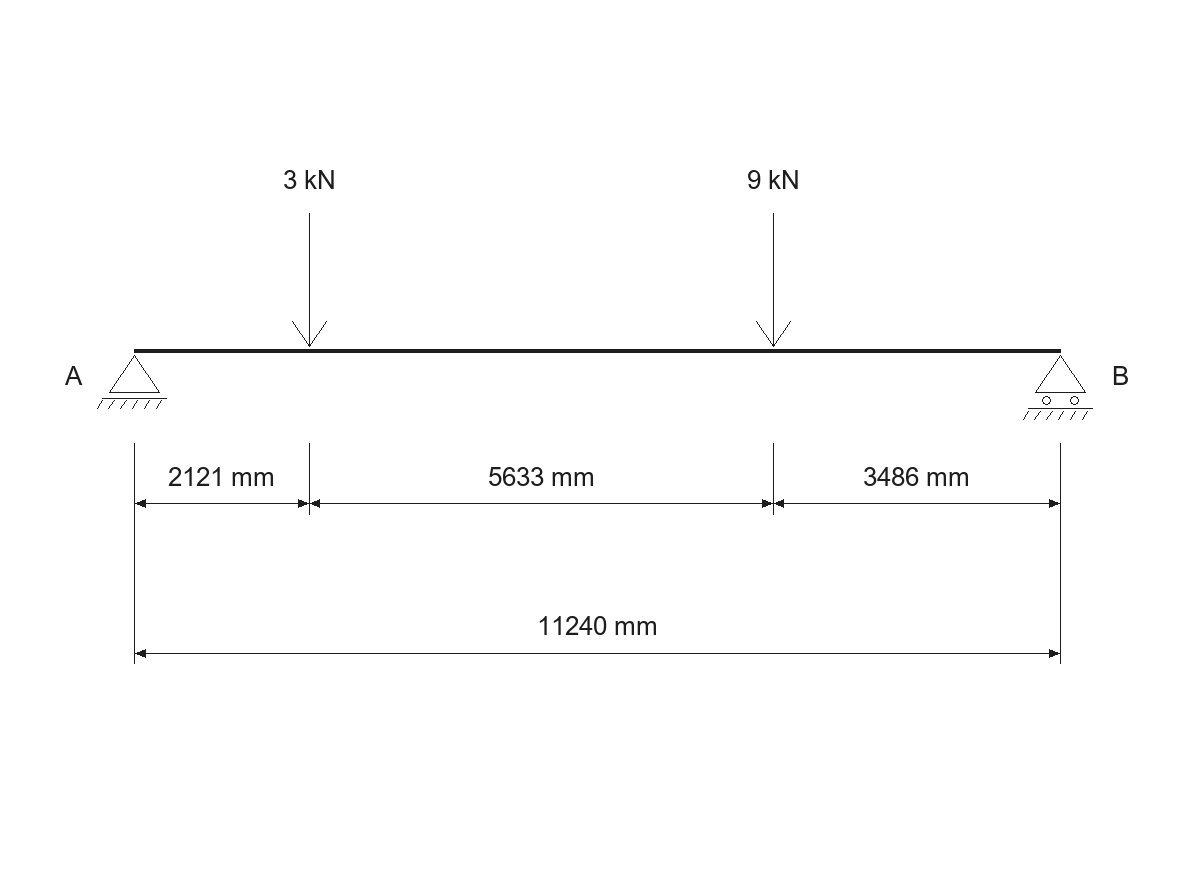pin_support: (97, 355, 167, 409)
point_load: (292, 213, 327, 347), (756, 213, 791, 347)
roller_support: (1023, 355, 1093, 420)
